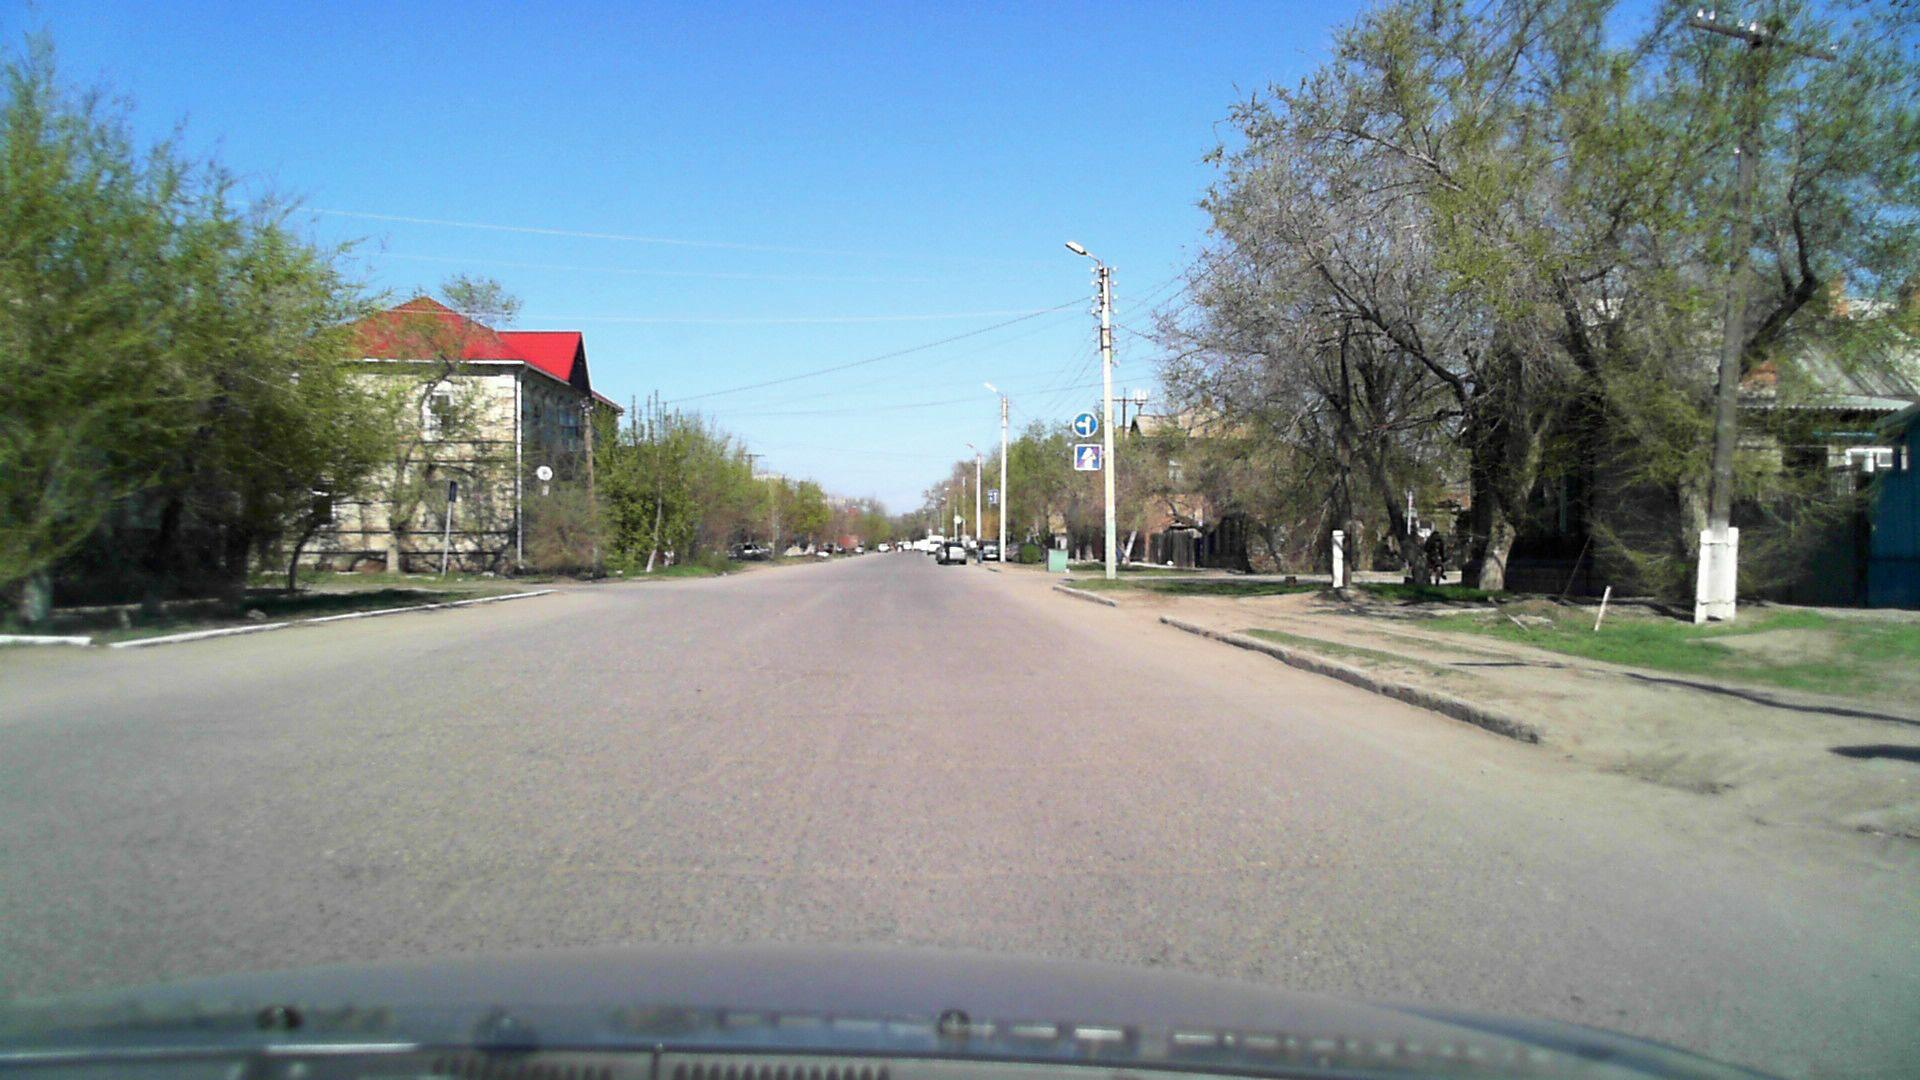4_1_5: (1072, 411, 1098, 436)
5_6: (1072, 444, 1104, 469)
